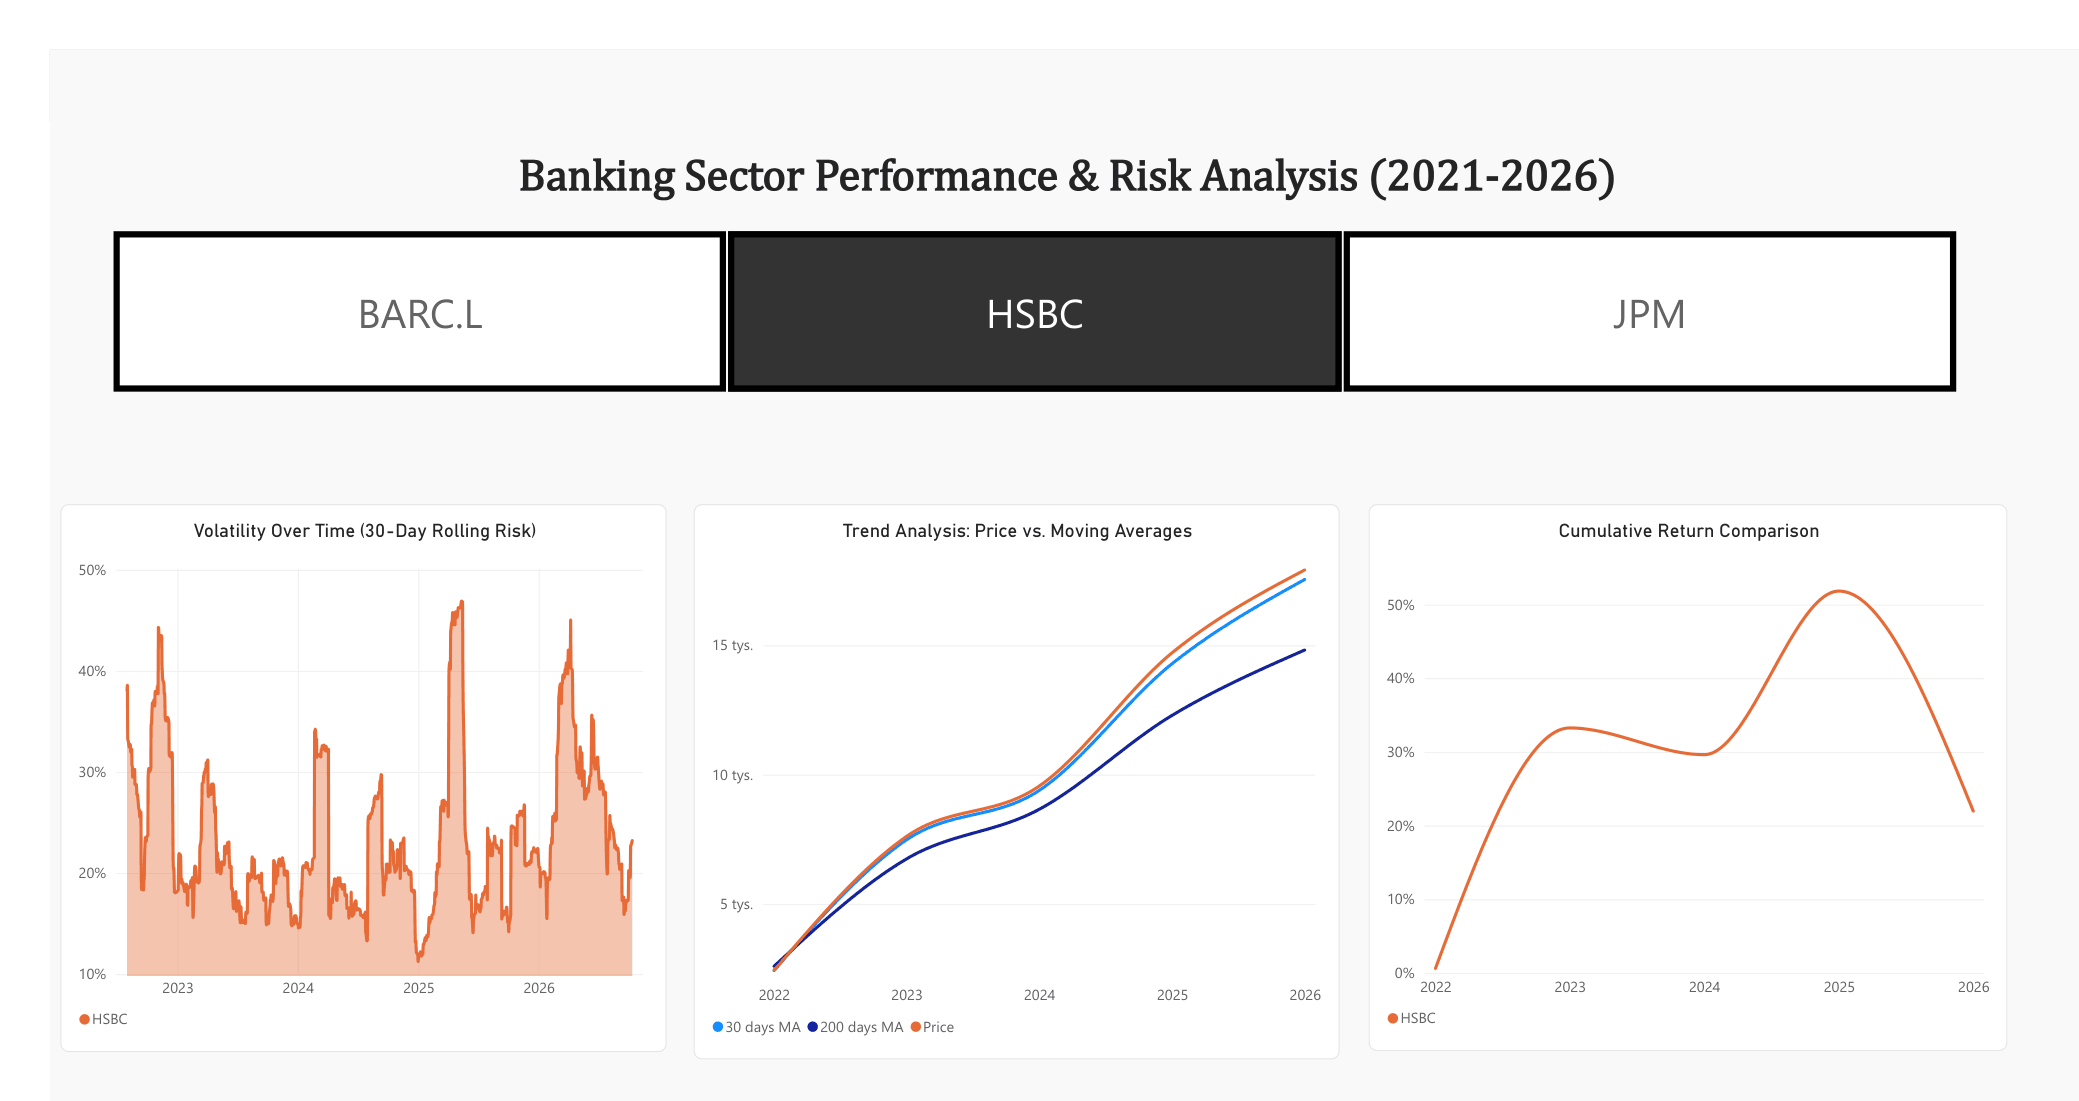

The page's visual inventory and layout, read from the dashboard file:
{"tool":"powerbi","page":{"name":"Strona 1","canvas":[1920,1080],"ordinal":0},"visuals":[{"type":"slicer","fields":{"Values":["banking_stocks_analysis.Ticker"]},"box":[39.1,172.9,1809.3,158.5],"z":1},{"type":"lineChart","title":"Trend Analysis: Price vs. Moving Averages","fields":{"Category":["banking_stocks_analysis.Date.Odmiana.Hierarchia dat.Rok","banking_stocks_analysis.Date.Odmiana.Hierarchia dat.Kwartał","banking_stocks_analysis.Date.Odmiana.Hierarchia dat.Miesiąc","banking_stocks_analysis.Date.Odmiana.Hierarchia dat.Dzień"],"Y":["Sum(banking_stocks_analysis.MA_30_Days)","Sum(banking_stocks_analysis.MA_200_Days)","Sum(banking_stocks_analysis.Price)"]},"box":[617.5,436.4,619.6,533.1],"z":2},{"type":"textbox","box":[150,85,300,150],"z":3},{"type":"textbox","box":[450.8,98.8,1261.8,123.5],"z":4},{"type":"lineChart","title":"Cumulative Return Comparison","fields":{"Category":["banking_stocks_analysis.Date.Odmiana.Hierarchia dat.Rok","banking_stocks_analysis.Date.Odmiana.Hierarchia dat.Kwartał","banking_stocks_analysis.Date.Odmiana.Hierarchia dat.Miesiąc","banking_stocks_analysis.Date.Odmiana.Hierarchia dat.Dzień"],"Series":["banking_stocks_analysis.Ticker"],"Y":["Sum(banking_stocks_analysis.Log_Return)"]},"box":[1265.9,436.4,613.4,524.9],"z":5},{"type":"stackedAreaChart","title":"Volatility Over Time (30-Day Rolling Risk)","fields":{"Category":["banking_stocks_analysis.Date"],"Series":["banking_stocks_analysis.Ticker"],"Y":["Sum(banking_stocks_analysis.Volatility_30D)"]},"box":[10.3,436.4,578.4,524.9],"z":6}]}

Visuals, with their boxes in screenshot pixels (x1, y1, x2, y2):
slicer - banking_stocks_analysis.Ticker: 162 232 1914 386
"Trend Analysis: Price vs. Moving Averages" lineChart: 722 487 1322 1003
textbox: 270 147 560 292
textbox: 561 161 1782 280
"Cumulative Return Comparison" lineChart: 1350 487 1944 996
"Volatility Over Time (30-Day Rolling Risk)" stackedAreaChart: 134 487 694 996
